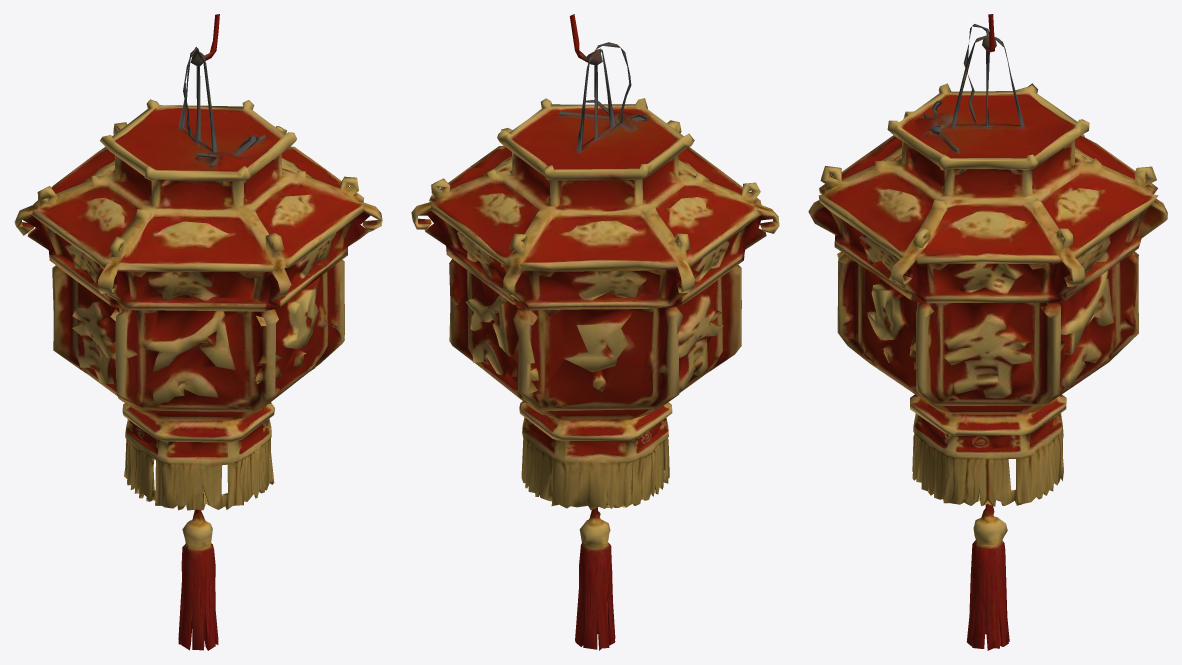
The model's file is lantern.glb.
3 renders of one model, left to right at view 1: azimuth 30°, elevation 25°; view 2: azimuth 150°, elevation 25°; view 3: azimuth 270°, elevation 25°, orthographic. The views are drawn at different scales.
Visible parts, largest first — view 1: tripo_node_c190e653-3046-484c-9c09-6f642f215cef; view 2: tripo_node_c190e653-3046-484c-9c09-6f642f215cef; view 3: tripo_node_c190e653-3046-484c-9c09-6f642f215cef.
Part boxes in pixels (bbox=[...]): tripo_node_c190e653-3046-484c-9c09-6f642f215cef: bbox=[14, 14, 382, 650]; tripo_node_c190e653-3046-484c-9c09-6f642f215cef: bbox=[411, 14, 779, 650]; tripo_node_c190e653-3046-484c-9c09-6f642f215cef: bbox=[808, 14, 1167, 650].
Bounding box in the file's own units: 0.239 × 0.5 × 0.2546.
1 material, 1 textured.
